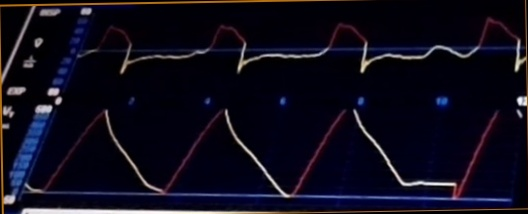Ineffective_effort Flow: (78, 16, 527, 83)
Ineffective_effort Volume: (29, 108, 496, 204)
